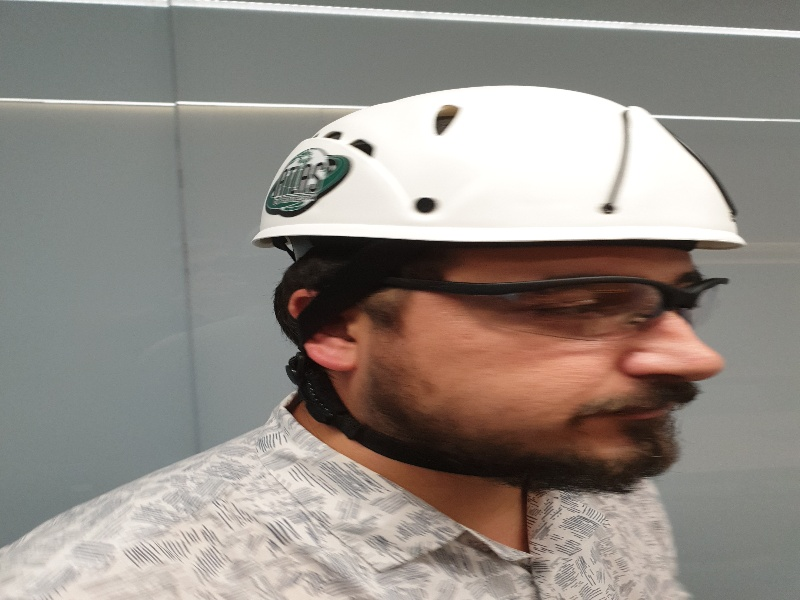Baret: (252, 88, 743, 244)
Gozluk: (379, 274, 729, 343)
